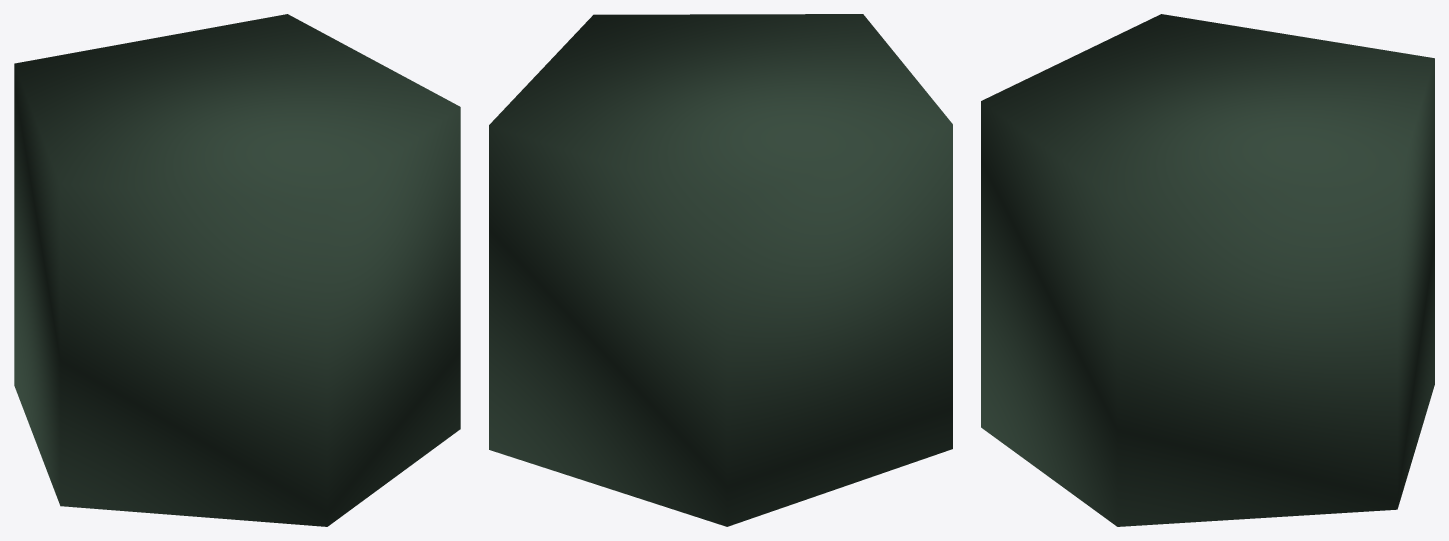
File: Map4.dae
3 views of the same model, side by side, from view 1: azimuth 30°, elevation 25°; view 2: azimuth 150°, elevation 25°; view 3: azimuth 270°, elevation 25° (orthographic).
Visible parts, largest first — view 1: World-firstForest-gnd_000; view 2: World-firstForest-gnd_000; view 3: World-firstForest-gnd_000.
Boxes of the visible parts, <box> form: World-firstForest-gnd_000: <box>14,14,460,526</box>; World-firstForest-gnd_000: <box>489,14,952,526</box>; World-firstForest-gnd_000: <box>981,14,1434,526</box>.
Size of the model in its own units: 191 by 196 by 158.
Materials: 6 (4 with a texture image).
